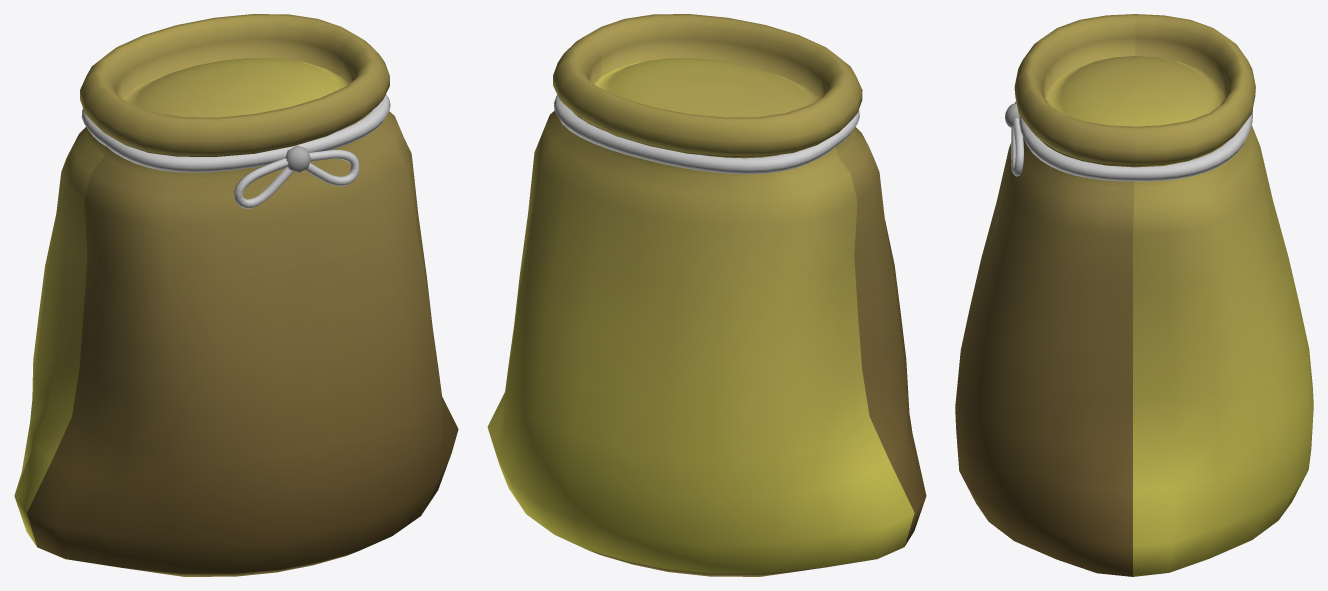
Rendered from SM_Bag_02.fbx.
3 views of the same model, side by side, from view 1: azimuth 30°, elevation 25°; view 2: azimuth 150°, elevation 25°; view 3: azimuth 270°, elevation 25° (orthographic). The views are drawn at different scales.
Parts seen in each view (by area): view 1: SM_Bag_02; view 2: SM_Bag_02; view 3: SM_Bag_02.
Boxes of the visible parts, bbox=[...] form: SM_Bag_02: bbox=[14, 14, 458, 576]; SM_Bag_02: bbox=[487, 14, 926, 576]; SM_Bag_02: bbox=[955, 14, 1313, 576].
Bounding box in the file's own units: 79.58 × 80.66 × 62.07.
